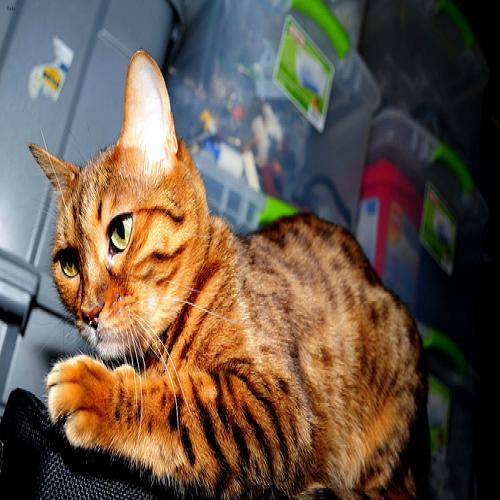cat-face: (15, 53, 216, 361)
